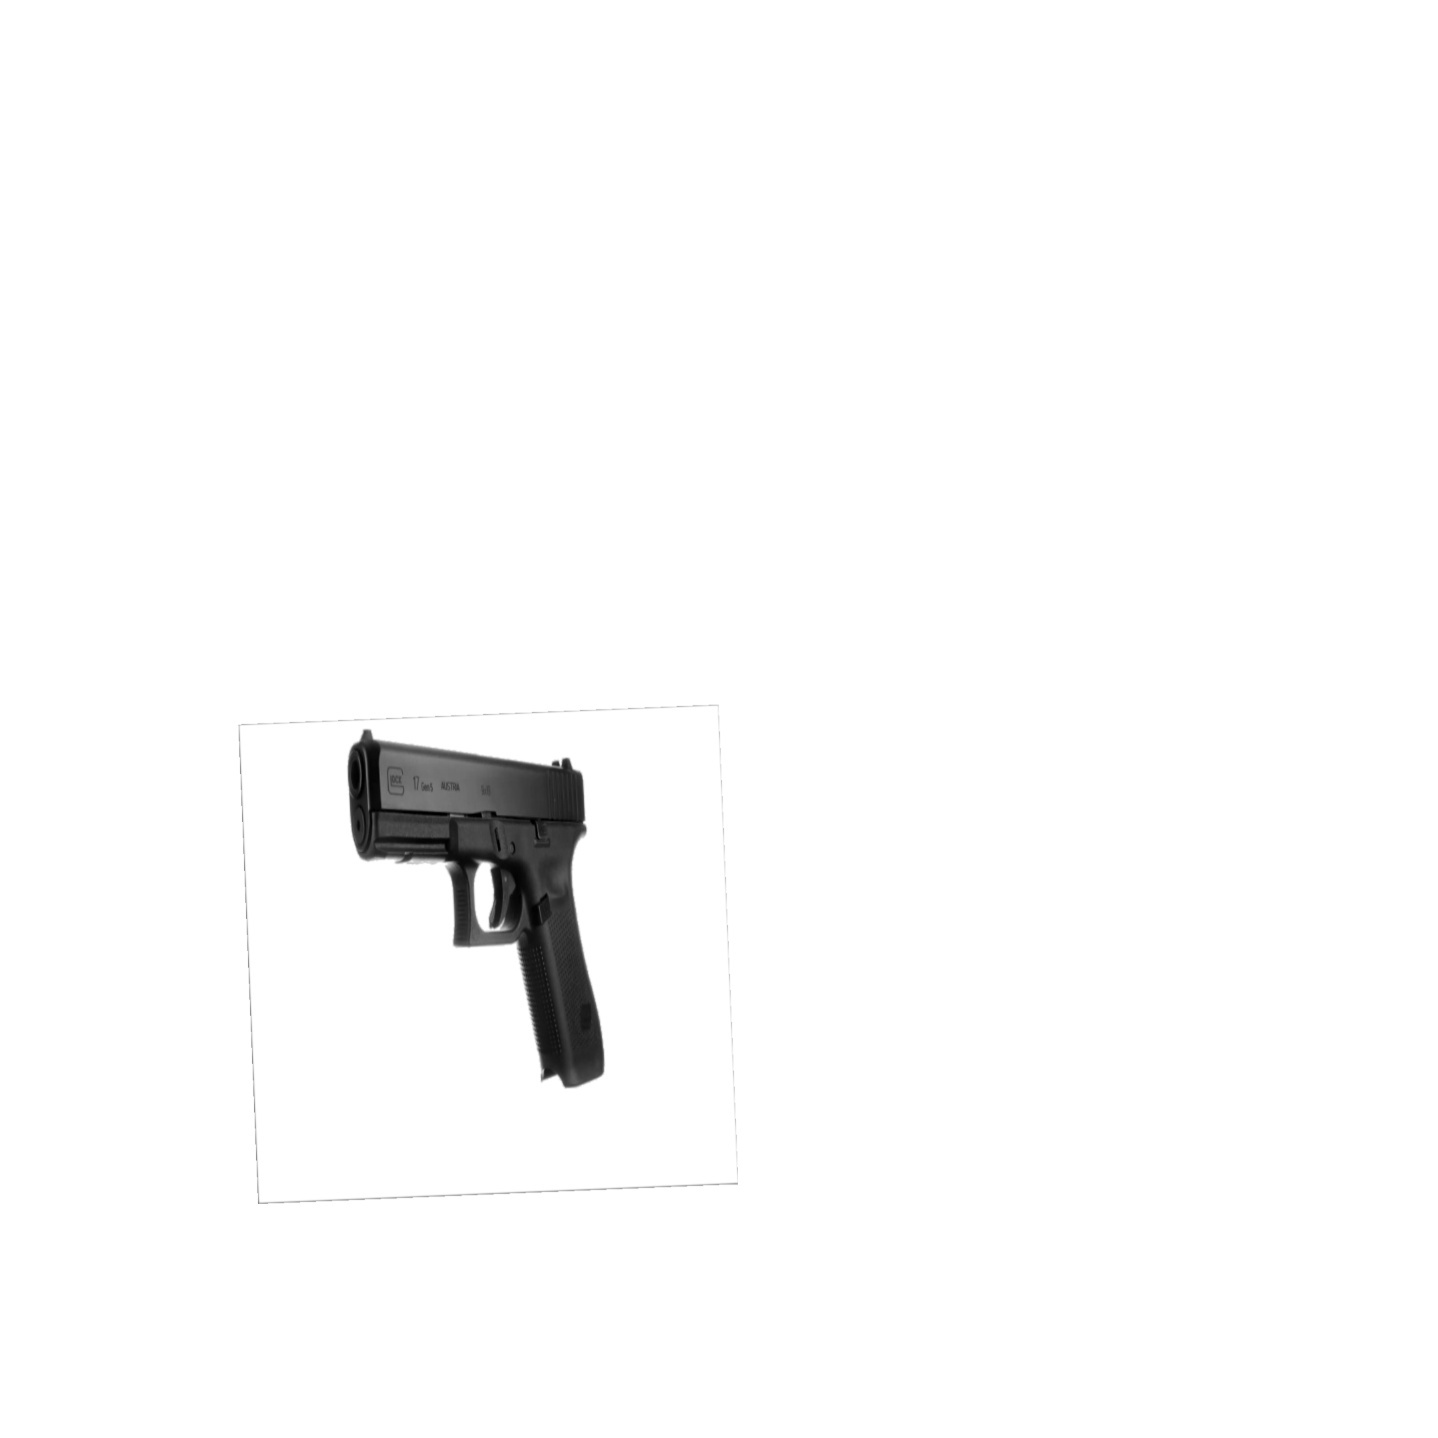gun: (348, 730, 606, 1088)
